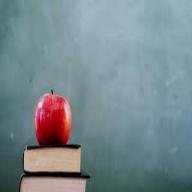apple: (34, 94, 71, 144)
